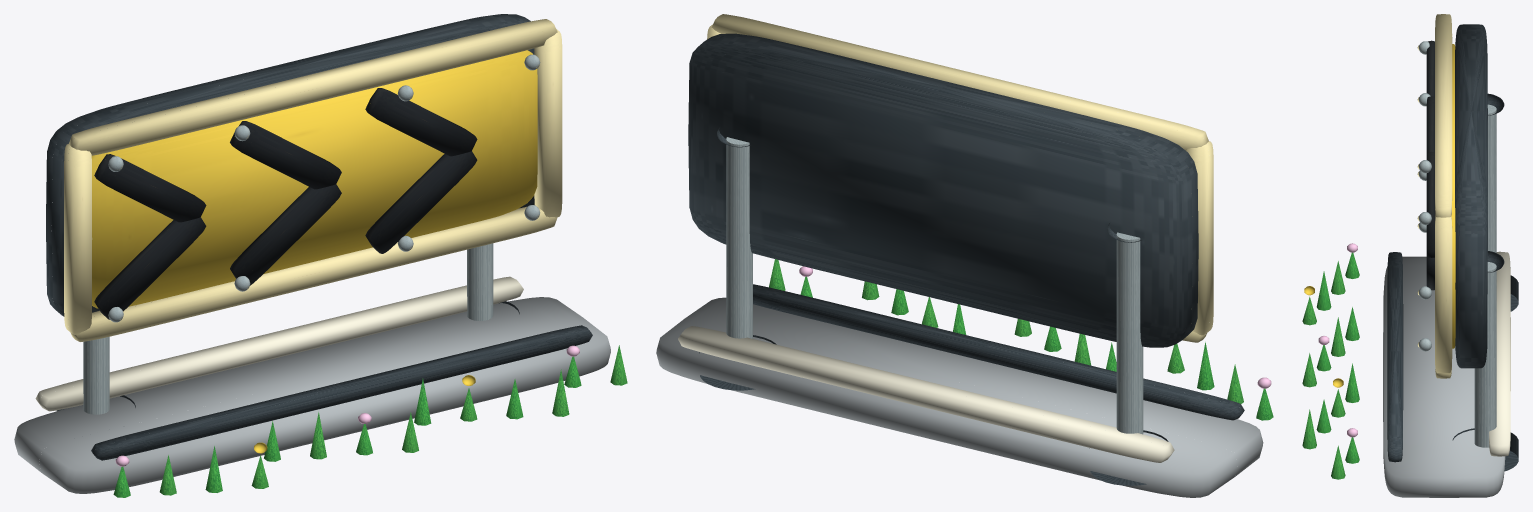
The model's file is corner_marker_showcase.glb.
3 renders of one model, left to right at view 1: azimuth 30°, elevation 25°; view 2: azimuth 150°, elevation 25°; view 3: azimuth 270°, elevation 25°, orthographic. The views are drawn at different scales.
Bounding box in the file's own units: 6.7 × 3.9 × 2.73.
Materials: 10 (7 with a texture image).
